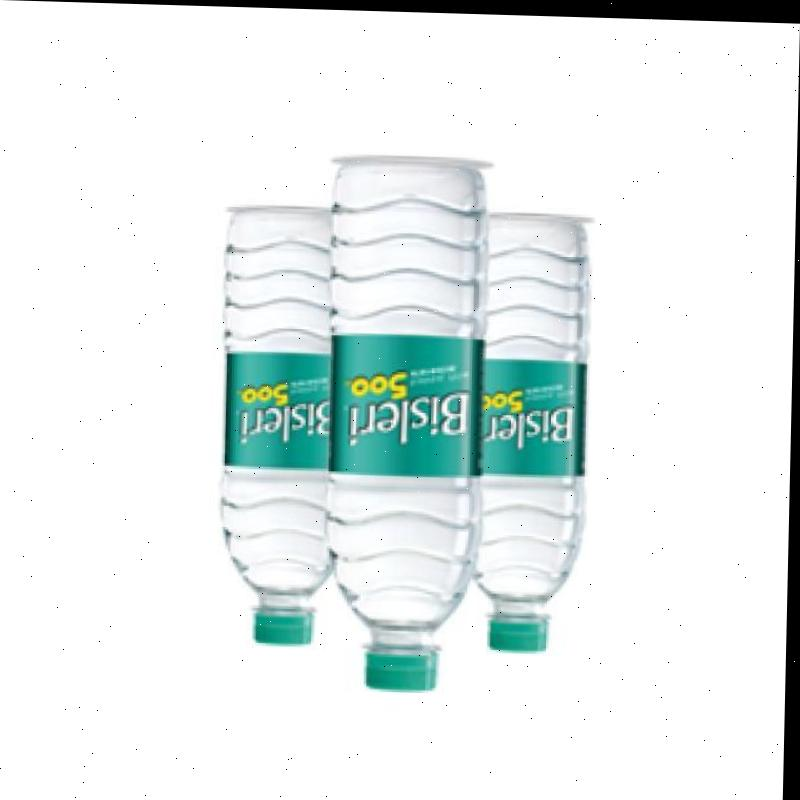botella: (321, 153, 480, 690), (221, 195, 344, 644), (474, 209, 596, 651)
